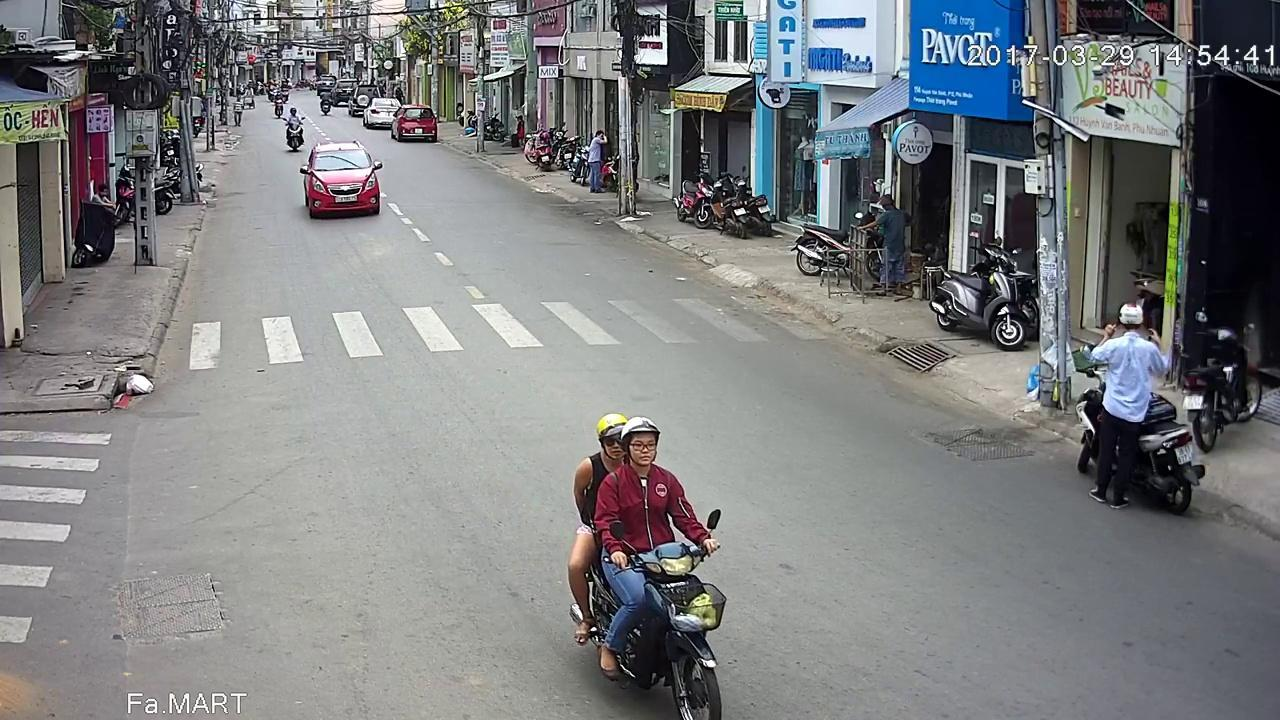xe hoi: (305, 143, 382, 219), (395, 106, 440, 143)
xe may: (568, 377, 728, 720), (1068, 301, 1209, 514), (281, 103, 305, 148)
